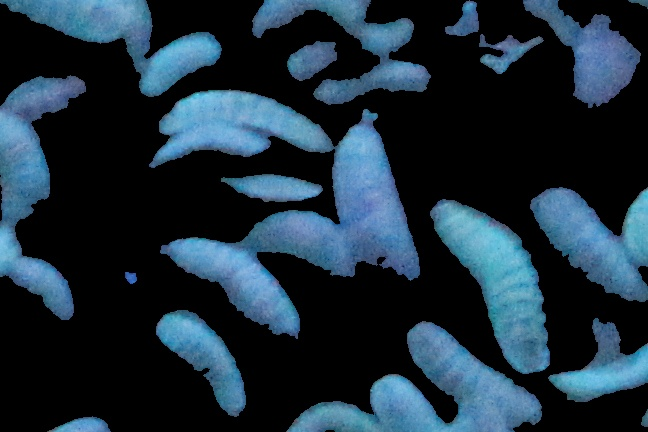larvae: (431, 194, 549, 367), (535, 181, 646, 300), (165, 236, 297, 336), (337, 128, 418, 277), (415, 325, 543, 419), (150, 93, 335, 150), (158, 308, 251, 418), (249, 208, 349, 277), (1, 107, 57, 225), (1, 1, 140, 40), (319, 58, 428, 107), (547, 356, 648, 404), (218, 165, 328, 207), (1, 257, 71, 321), (375, 374, 448, 432), (143, 35, 218, 89), (4, 73, 92, 116), (464, 1, 560, 18), (314, 1, 392, 2)
